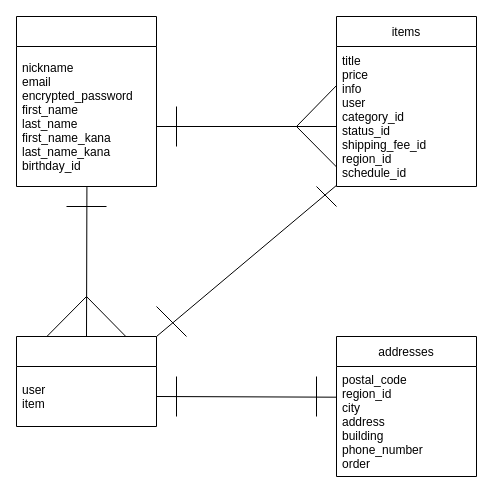
The diagram is 493 pixels wide and 493 high, and some of its shapes have lost their labels. Each missing label, with the box of its shape:
orders: (16, 336, 156, 426)
users: (16, 16, 156, 186)
